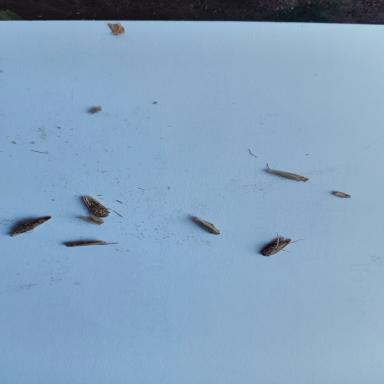pbw: (258, 231, 308, 258), (4, 214, 57, 238), (76, 192, 116, 220), (263, 162, 311, 182), (186, 215, 227, 236), (60, 239, 124, 249), (326, 187, 354, 199)
